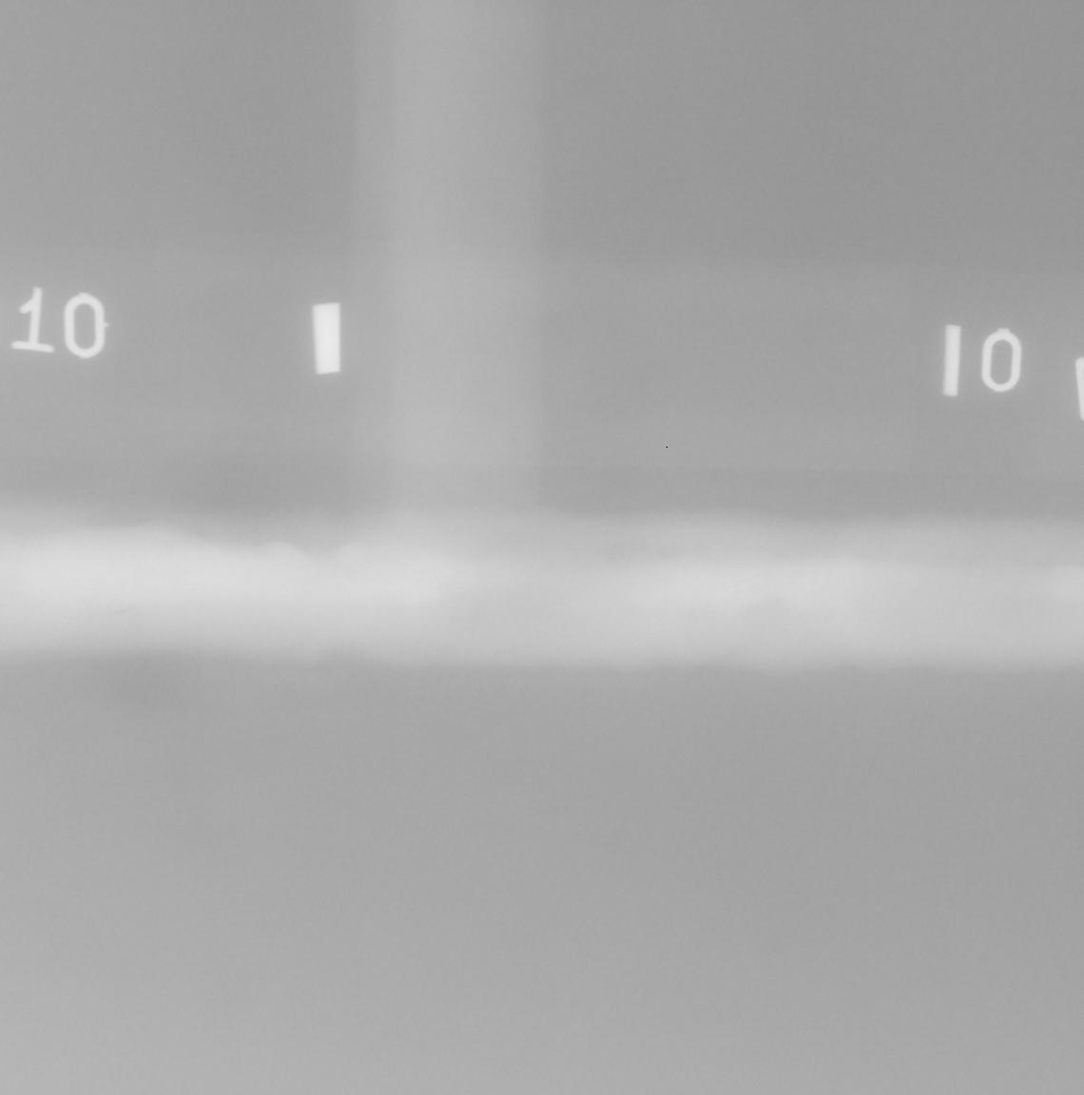Inclusion: (603, 542, 657, 561), (466, 610, 479, 635), (660, 544, 679, 556), (113, 608, 133, 615)
Pore/Porosity: (253, 553, 268, 557)
